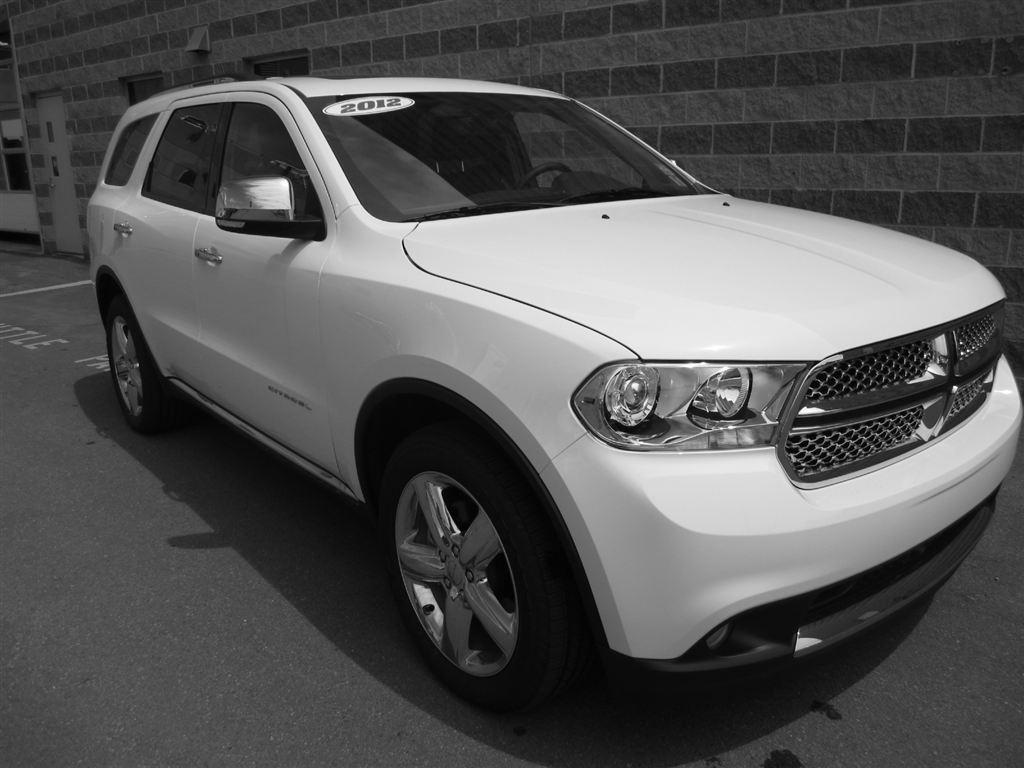car: (87, 78, 1022, 725)
